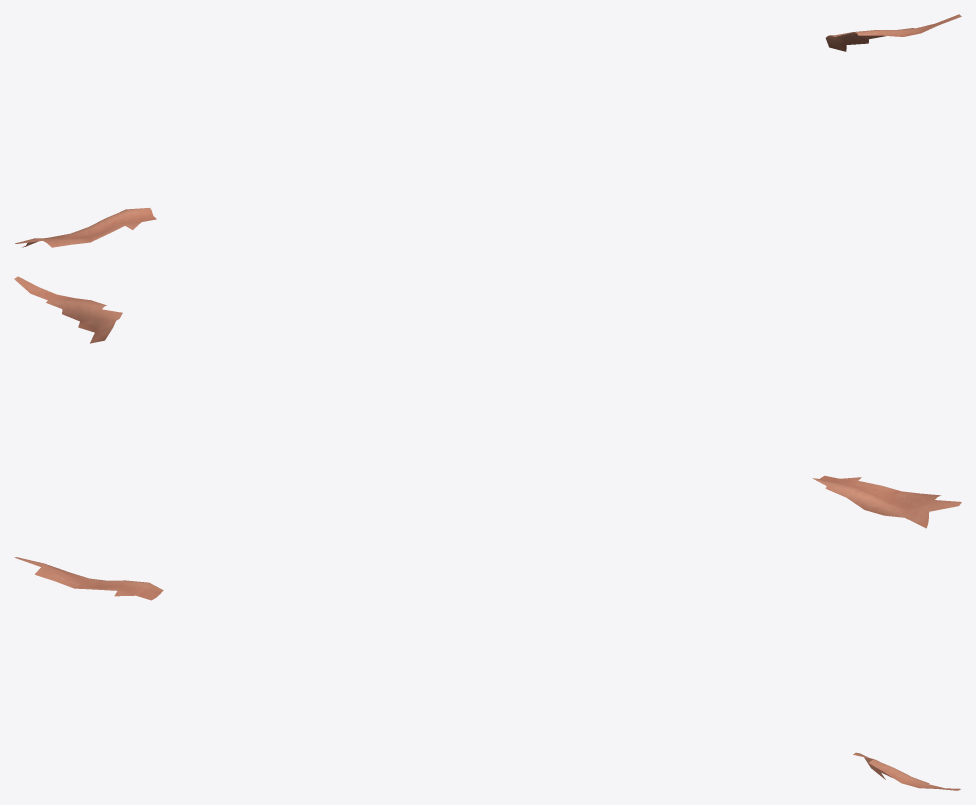
Rendered from brachialis.glb.
3 renders of one model, top to bottom at view 1: azimuth 30°, elevation 25°; view 2: azimuth 150°, elevation 25°; view 3: azimuth 330°, elevation 25°, orthographic.
Parts seen in each view (by area): view 1: brachialis; view 2: brachialis; view 3: brachialis.
Boxes of the visible parts, x1,y1,x2,y2 form: brachialis: (15, 14, 961, 247); brachialis: (14, 276, 961, 528); brachialis: (14, 557, 960, 790).
Bounding box in the file's own units: 0.1019 × 0.00334 × 0.00583.
1 material, 1 textured.
